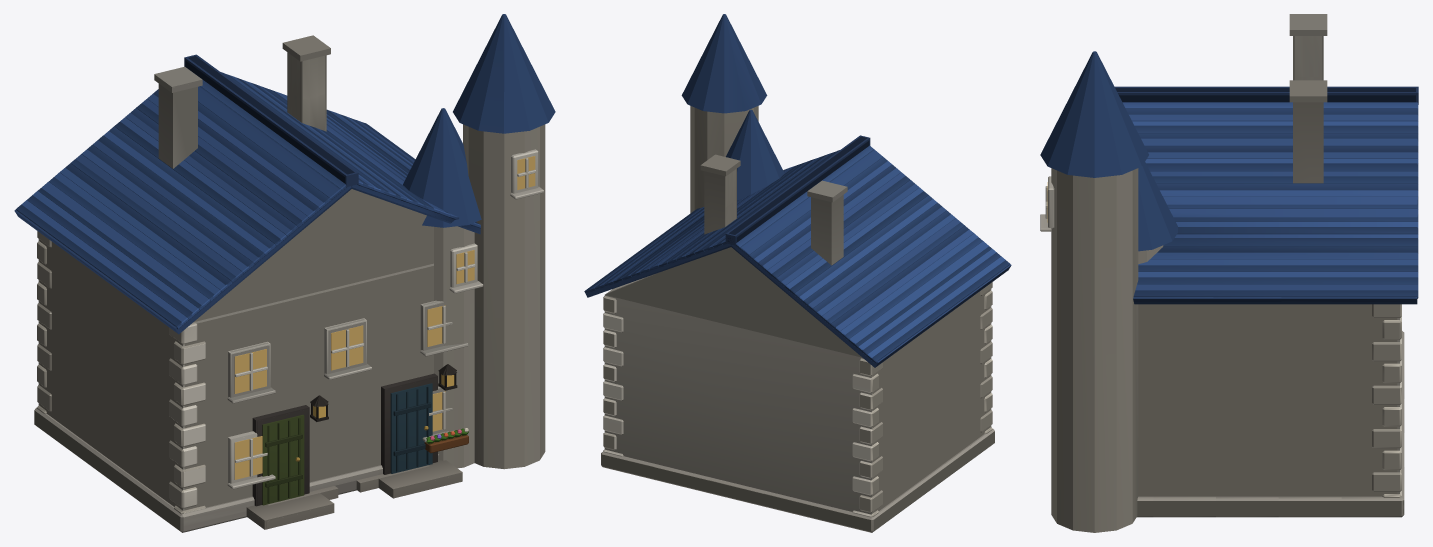
The model's file is houses-castle.glb.
The picture shows the model from 3 angles, left to right: view 1: azimuth 30°, elevation 25°; view 2: azimuth 150°, elevation 25°; view 3: azimuth 270°, elevation 25°; orthographic projection. The views are drawn at different scales.
Visible parts, largest first — view 1: house_castle_l1, house_castle_l0, house_castle_s0, house_castle_l0__lod, house_castle_l1__lod, house_castle_l1__glow, house_castle_l0__glow; view 2: house_castle_l0__lod, house_castle_l1, house_castle_l0, house_castle_s0, house_castle_l1__lod; view 3: house_castle_l1, house_castle_l0, house_castle_l0__lod, house_castle_l1__lod, house_castle_s0.
Part boxes in pixels (<box>): house_castle_l1: <box>16,14,555,531</box>; house_castle_l0: <box>21,67,480,532</box>; house_castle_s0: <box>403,108,483,468</box>; house_castle_l0__lod: <box>14,54,480,510</box>; house_castle_l1__lod: <box>246,35,442,529</box>; house_castle_l1__glow: <box>235,156,535,431</box>; house_castle_l0__glow: <box>234,310,454,479</box>; house_castle_l0__lod: <box>584,135,1011,514</box>; house_castle_l1: <box>585,14,1009,532</box>; house_castle_l0: <box>586,145,1005,532</box>; house_castle_s0: <box>726,109,784,200</box>; house_castle_l1__lod: <box>700,154,740,234</box>; house_castle_l1: <box>1040,51,1418,532</box>; house_castle_l0: <box>1122,14,1418,516</box>; house_castle_l0__lod: <box>1115,14,1418,493</box>; house_castle_l1__lod: <box>1289,80,1327,183</box>; house_castle_s0: <box>1138,162,1177,263</box>.
Bounding box in the file's own units: 10.7 × 11.75 × 8.68.
